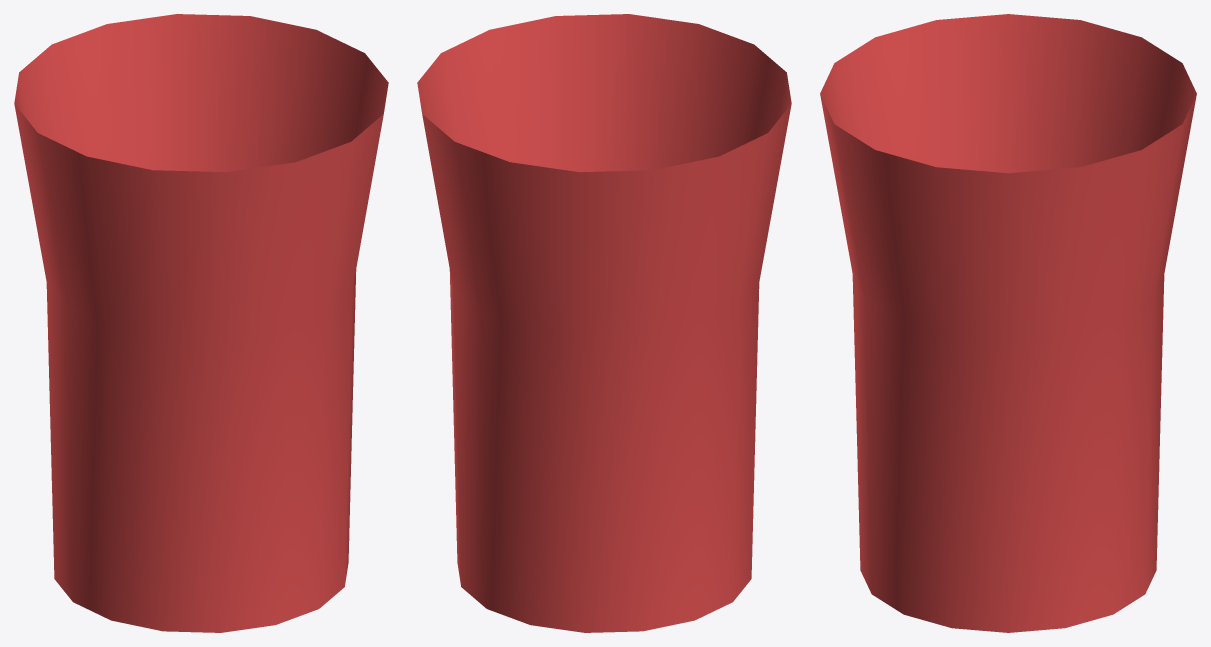
File: SM_FireBurstCastedSkillFloorFlameObject.fbx
The picture shows the model from 3 angles, left to right: view 1: azimuth 30°, elevation 25°; view 2: azimuth 150°, elevation 25°; view 3: azimuth 270°, elevation 25°; orthographic projection.
Visible parts, largest first — view 1: Cylinder.001; view 2: Cylinder.001; view 3: Cylinder.001.
Boxes of the visible parts, <box> form: Cylinder.001: <box>14,14,388,632</box>; Cylinder.001: <box>417,14,791,632</box>; Cylinder.001: <box>820,14,1196,632</box>.
Size of the model in its own units: 242 by 338 by 242.
